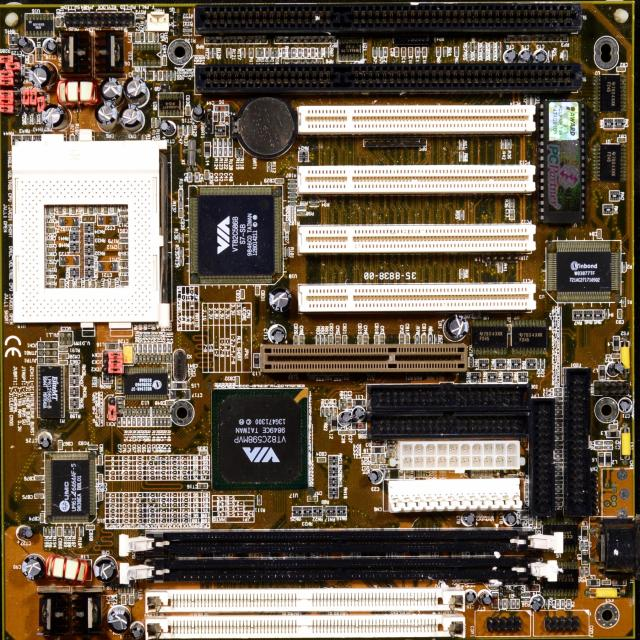Capacitor Jumper: (42, 101, 68, 127), (94, 556, 118, 584), (108, 605, 132, 632), (31, 62, 57, 86), (120, 102, 144, 128), (95, 100, 116, 129), (126, 76, 147, 102), (22, 555, 42, 579), (100, 79, 119, 101), (42, 36, 59, 56), (18, 38, 34, 55), (18, 525, 33, 542), (132, 624, 144, 637), (405, 335, 411, 346), (380, 333, 385, 345), (198, 483, 208, 489), (308, 496, 318, 502), (274, 178, 284, 184), (165, 400, 176, 405), (284, 221, 289, 232), (608, 424, 618, 429), (58, 440, 63, 450), (98, 474, 103, 484), (34, 494, 44, 499), (394, 47, 399, 57), (129, 595, 134, 605), (46, 263, 56, 268), (240, 288, 245, 298), (364, 334, 368, 346), (415, 48, 421, 56), (408, 48, 414, 56), (178, 124, 182, 136), (148, 33, 153, 42), (98, 456, 103, 465), (119, 217, 128, 222), (46, 228, 55, 233), (300, 335, 304, 346), (58, 204, 62, 215), (422, 334, 426, 344), (399, 334, 403, 344), (336, 334, 340, 344), (375, 335, 379, 345), (358, 335, 362, 345), (59, 354, 69, 358), (604, 446, 614, 450), (386, 453, 396, 457), (371, 454, 375, 464), (35, 475, 43, 480), (402, 47, 406, 57), (40, 513, 44, 523), (384, 48, 388, 58), (58, 526, 62, 536), (584, 541, 588, 551), (29, 54, 33, 64), (121, 596, 126, 604), (567, 599, 571, 609), (186, 106, 190, 116), (205, 170, 209, 180), (510, 210, 514, 220), (46, 278, 56, 282), (77, 279, 81, 289), (85, 280, 89, 290), (256, 285, 260, 295), (136, 33, 140, 42), (347, 400, 351, 409), (325, 407, 329, 416), (594, 440, 603, 444), (317, 458, 326, 462), (371, 465, 380, 469), (423, 48, 427, 57), (86, 526, 95, 530), (556, 600, 560, 609), (617, 138, 626, 142), (56, 17, 60, 26), (597, 229, 601, 238), (119, 245, 128, 249), (46, 248, 55, 252), (119, 276, 128, 280), (60, 280, 64, 289), (618, 310, 622, 319), (612, 354, 620, 358), (60, 360, 68, 364), (339, 430, 347, 434), (347, 430, 355, 434), (199, 451, 207, 455), (97, 206, 101, 214), (104, 206, 108, 214), (89, 206, 93, 214), (120, 211, 128, 215), (46, 240, 54, 244), (120, 256, 128, 260), (120, 262, 128, 266), (97, 280, 101, 288), (120, 282, 128, 286), (343, 335, 346, 345), (294, 335, 297, 345), (343, 400, 346, 410), (334, 407, 337, 417), (133, 72, 136, 82), (330, 335, 333, 344), (163, 56, 166, 65), (51, 205, 54, 214), (45, 223, 54, 226), (46, 256, 55, 259), (92, 280, 95, 289), (66, 205, 69, 213), (111, 280, 114, 288), (104, 280, 107, 288), (197, 174, 200, 181), (114, 206, 117, 213), (72, 206, 75, 213), (121, 234, 128, 237), (382, 454, 384, 463), (120, 270, 128, 272), (70, 281, 72, 289), (84, 206, 86, 213)
Connector: (193, 4, 580, 32), (146, 556, 538, 583), (195, 64, 580, 90), (147, 531, 534, 556), (146, 588, 466, 613), (145, 615, 465, 640), (294, 104, 534, 134), (298, 166, 534, 193), (296, 285, 536, 309), (298, 228, 532, 252), (384, 477, 523, 512), (370, 412, 529, 442), (262, 346, 468, 368), (562, 368, 592, 518), (367, 384, 531, 411), (530, 398, 559, 516), (396, 444, 520, 469), (592, 522, 640, 576), (66, 12, 136, 27)
IC: (211, 386, 311, 488), (189, 184, 282, 285), (536, 100, 585, 224), (544, 240, 620, 304), (45, 451, 94, 522), (37, 366, 67, 423), (123, 368, 167, 400), (472, 319, 508, 356), (593, 74, 627, 112), (592, 144, 626, 182), (542, 560, 577, 595), (512, 320, 546, 355), (542, 518, 577, 552), (24, 13, 54, 37), (158, 92, 184, 118), (337, 38, 364, 61), (579, 566, 584, 577)
Resistor Jumper: (506, 138, 512, 151), (308, 197, 320, 203), (428, 333, 433, 346), (414, 334, 420, 344), (443, 46, 448, 58), (302, 48, 308, 58), (264, 48, 270, 58), (136, 71, 141, 83), (188, 124, 193, 136), (238, 149, 244, 159), (267, 162, 272, 174), (357, 429, 368, 434), (296, 211, 307, 216), (183, 24, 192, 30), (183, 124, 187, 137), (157, 344, 162, 354), (339, 400, 344, 410), (249, 48, 254, 58), (325, 48, 330, 58), (579, 540, 584, 550), (228, 138, 233, 148), (459, 139, 464, 149), (459, 210, 464, 220), (621, 298, 626, 308), (316, 334, 320, 346), (325, 335, 329, 347), (58, 347, 70, 351), (498, 42, 502, 54), (288, 178, 296, 184), (296, 206, 308, 210), (162, 344, 167, 353), (167, 344, 172, 353), (137, 344, 142, 353), (131, 418, 136, 427), (466, 41, 471, 50), (297, 49, 302, 58), (71, 528, 76, 537), (563, 50, 568, 59), (584, 568, 589, 577), (218, 149, 223, 158), (460, 152, 465, 161), (183, 17, 192, 22), (509, 199, 514, 208), (321, 335, 325, 346), (241, 48, 245, 59), (228, 48, 232, 59), (172, 70, 176, 81), (74, 135, 78, 146), (501, 139, 505, 150), (287, 184, 298, 188), (285, 247, 289, 258), (182, 32, 192, 36), (434, 334, 438, 344), (152, 344, 157, 352), (148, 344, 152, 354), (140, 32, 144, 42), (96, 377, 100, 387), (137, 416, 141, 426), (122, 417, 126, 427), (376, 454, 380, 464), (474, 42, 478, 52), (436, 48, 441, 56), (373, 48, 377, 58), (379, 48, 383, 58), (256, 48, 260, 58), (209, 48, 213, 58), (270, 48, 274, 58), (292, 48, 296, 58), (318, 48, 322, 58), (260, 48, 264, 58), (274, 48, 278, 58), (80, 526, 84, 536), (548, 51, 552, 61), (499, 599, 503, 609), (516, 599, 520, 609), (512, 599, 516, 609), (154, 71, 158, 81), (33, 114, 37, 124), (213, 139, 218, 147), (218, 138, 222, 148), (223, 148, 228, 156), (288, 189, 298, 193), (45, 206, 50, 214), (622, 262, 626, 272), (498, 263, 502, 273), (459, 270, 464, 278), (150, 356, 156, 362), (132, 31, 135, 43), (154, 33, 158, 42), (143, 407, 147, 416), (117, 417, 121, 426), (167, 418, 171, 427), (142, 418, 146, 427), (604, 441, 613, 445), (387, 444, 396, 448), (311, 48, 315, 57), (63, 527, 67, 536), (52, 527, 56, 536), (482, 51, 486, 60), (134, 589, 138, 598), (521, 598, 530, 602), (503, 599, 507, 608), (560, 599, 564, 608), (544, 600, 548, 609), (148, 71, 152, 80), (162, 71, 166, 80), (167, 71, 171, 80), (70, 135, 74, 144), (214, 149, 218, 158), (288, 196, 297, 200), (288, 201, 297, 205), (310, 203, 319, 207), (46, 284, 55, 288), (455, 46, 458, 57), (236, 148, 239, 159), (288, 193, 299, 196), (61, 16, 64, 27), (133, 344, 137, 352), (143, 344, 147, 352), (70, 409, 78, 413), (139, 408, 143, 416), (167, 408, 171, 416), (146, 417, 150, 425), (155, 418, 159, 426), (159, 418, 163, 426), (386, 447, 394, 451), (44, 528, 48, 536), (522, 593, 530, 597), (141, 72, 145, 80), (228, 148, 232, 156), (136, 14, 144, 18), (120, 238, 128, 242), (46, 271, 54, 275), (490, 42, 493, 52), (258, 496, 261, 506), (281, 48, 284, 58), (134, 356, 138, 363), (467, 52, 471, 59), (147, 407, 150, 416), (321, 407, 324, 416), (128, 408, 131, 417), (136, 408, 139, 417), (327, 416, 330, 425), (595, 446, 604, 449), (48, 527, 51, 536), (26, 115, 29, 124), (157, 119, 160, 128), (152, 119, 155, 128), (223, 139, 226, 148), (169, 354, 172, 362), (147, 354, 150, 362), (142, 356, 146, 362), (161, 356, 165, 362), (152, 408, 155, 416), (163, 408, 166, 416), (152, 418, 155, 426), (145, 32, 147, 43), (139, 356, 142, 363), (330, 407, 332, 417), (128, 417, 130, 427), (483, 42, 485, 52), (214, 48, 216, 58), (157, 354, 159, 363), (160, 408, 162, 417), (132, 408, 134, 417), (164, 417, 166, 426), (68, 527, 70, 536), (126, 595, 128, 604), (508, 599, 510, 608), (159, 355, 161, 363), (125, 408, 127, 416), (475, 52, 477, 60), (166, 355, 168, 362), (156, 408, 158, 415), (490, 53, 492, 60), (498, 53, 500, 60)
